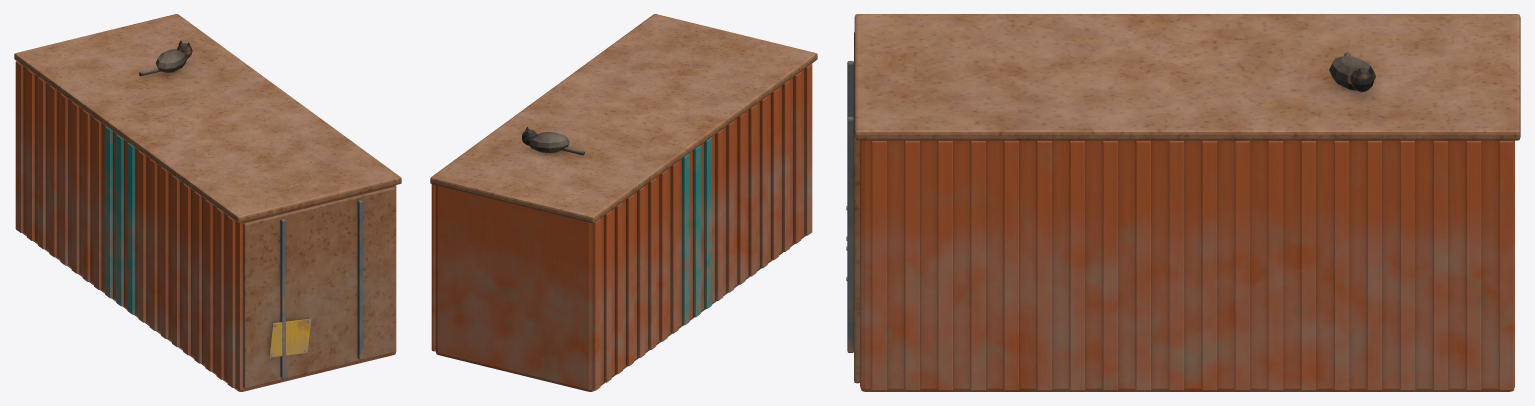
Rendered from container.glb.
The picture shows the model from 3 angles, left to right: view 1: azimuth 30°, elevation 25°; view 2: azimuth 150°, elevation 25°; view 3: azimuth 270°, elevation 25°; orthographic projection. The views are drawn at different scales.
Visible parts, largest first — view 1: Container_Mesh, Cat_Mesh; view 2: Container_Mesh, Cat_Mesh; view 3: Container_Mesh, Cat_Mesh.
Boxes of the visible parts, box(x1,y1,x2,y2) form: Container_Mesh: box(14, 14, 401, 391); Cat_Mesh: box(139, 40, 192, 76); Container_Mesh: box(430, 14, 817, 391); Cat_Mesh: box(522, 127, 584, 155); Container_Mesh: box(846, 14, 1520, 391); Cat_Mesh: box(1329, 52, 1376, 91).
Size of the model in its own units: 2.55 by 2.97 by 6.12.
Materials: 2 (2 with a texture image).
